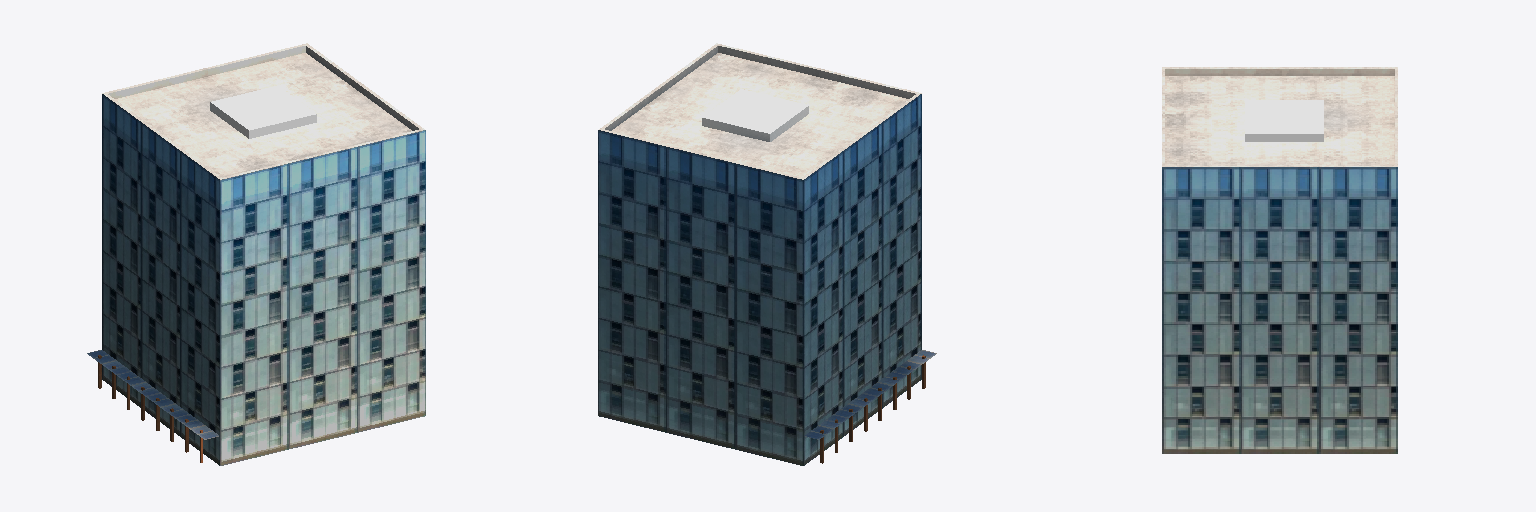
3 views of the same model, side by side, from view 1: azimuth 30°, elevation 25°; view 2: azimuth 150°, elevation 25°; view 3: azimuth 270°, elevation 25° (orthographic).
Parts seen in each view (by area): view 1: 4B3; view 2: 4B3; view 3: 4B3.
Boxes of the visible parts, box(x1,y1,x2,y2) form: 4B3: box(87, 43, 425, 465); 4B3: box(598, 43, 936, 465); 4B3: box(1162, 67, 1397, 453).
Bounding box in the file's own units: 32.28 × 40.18 × 30.
Materials: 1 (1 with a texture image).